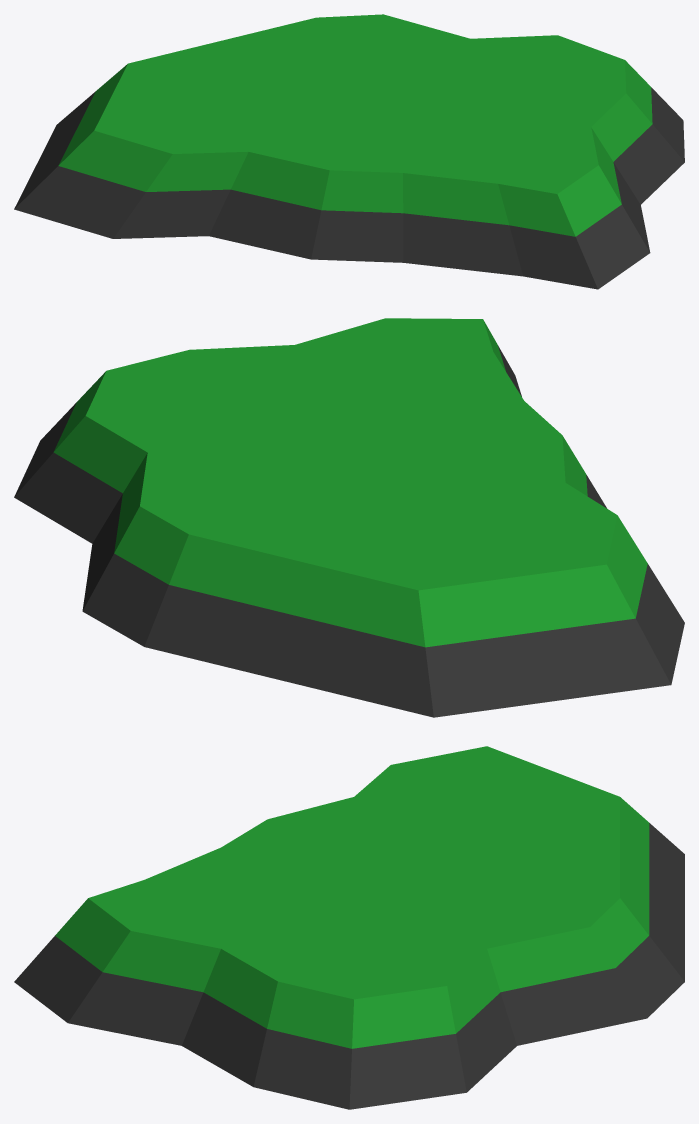
File: Island5.FBX
The picture shows the model from 3 angles, top to bottom: view 1: azimuth 30°, elevation 25°; view 2: azimuth 150°, elevation 25°; view 3: azimuth 270°, elevation 25°; orthographic projection. The views are drawn at different scales.
Visible parts, largest first — view 1: Island 3; view 2: Island 3; view 3: Island 3.
Part boxes in pixels (x1,y1,x2,y2): Island 3: (14, 14, 684, 289); Island 3: (14, 318, 684, 717); Island 3: (14, 746, 684, 1109).
Size of the model in its own units: 154 by 18.04 by 137.
